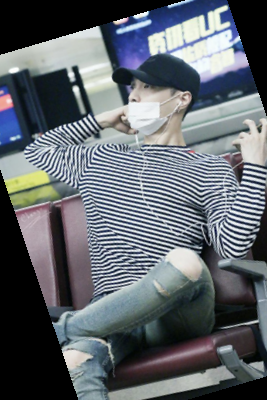mask_weared_incorrect: (109, 52, 224, 143)
